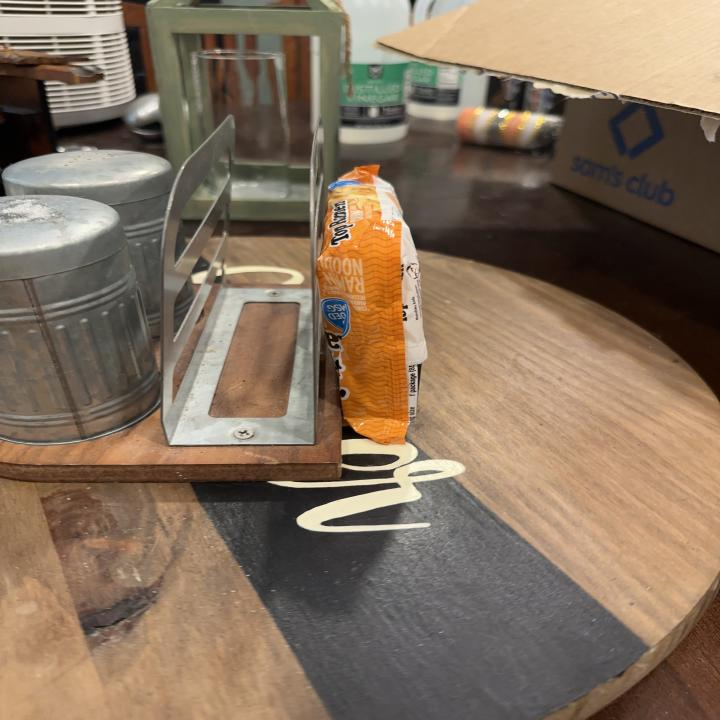Ramen: (320, 160, 431, 444)
